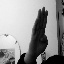b: (28, 6, 50, 58)
